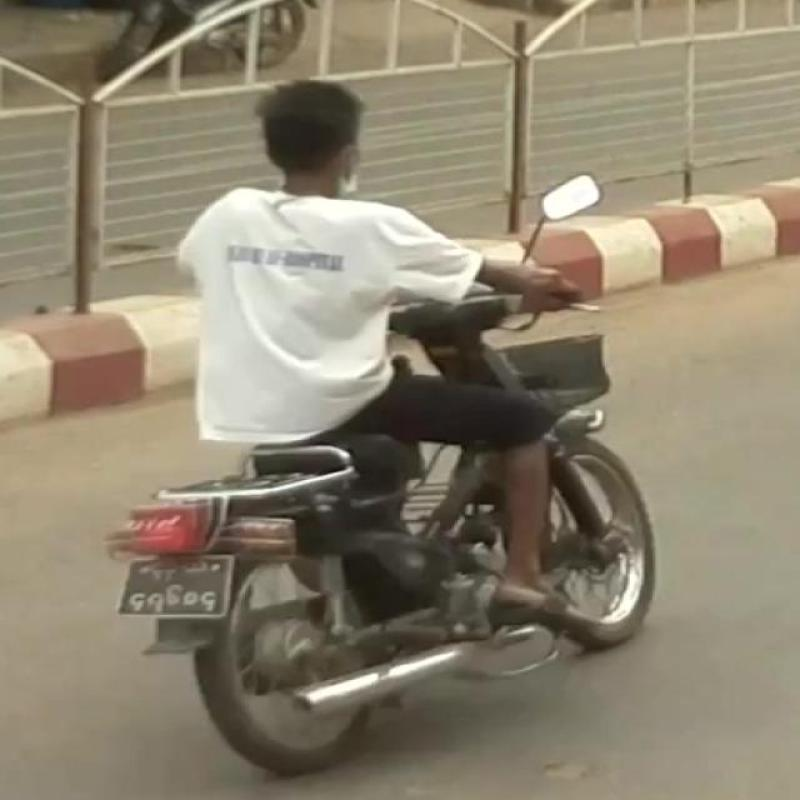nohelmet: (248, 59, 431, 279)
